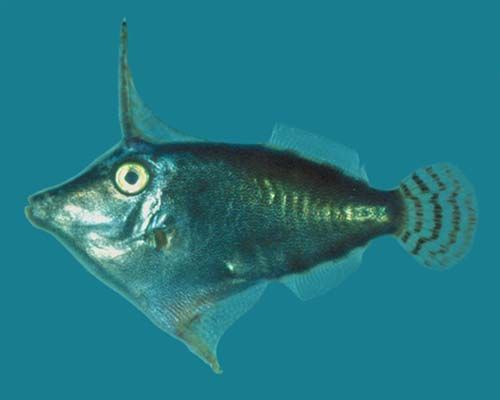fish: (24, 16, 479, 374)
